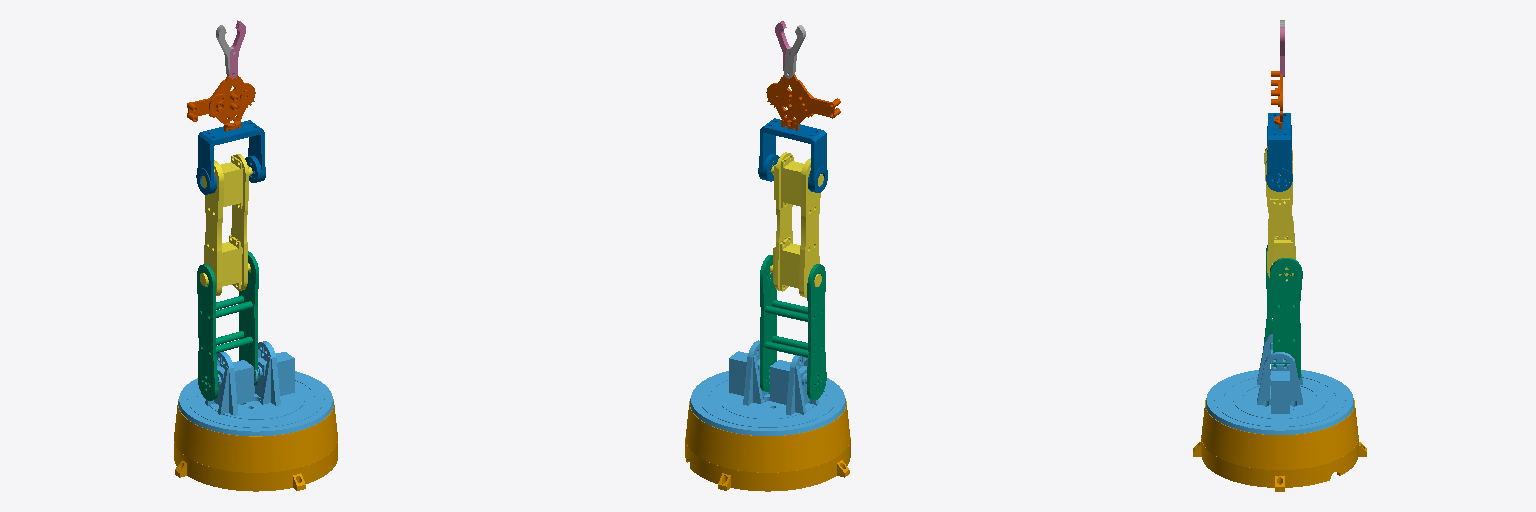
robot.urdf — test_robot:
<robot name="test_robot">
  <link name="base_cylinder">
	<visual>
         <geometry>
          <mesh filename="package://my_arm_xacro/meshes/base_cylinder.stl" scale ="0.001 0.001 0.001"/>
         </geometry>
        </visual>
        <collision>
         <geometry>
          <mesh filename="package://my_arm_xacro/meshes/base_cylinder.stl" scale ="0.001 0.001 0.001"/>
         </geometry>
        </collision>
  </link>

  <link name="platform">
	<visual>
         <geometry>
          <mesh filename="package://my_arm_xacro/meshes/top_plate.stl"/>
         </geometry>
        </visual>
        <collision>
         <geometry>
          <mesh filename="package://my_arm_xacro/meshes/top_plate.stl"/>
         </geometry>
        </collision>
  </link>

  <link name="lower_arm">
	<visual>
         <geometry>
          <mesh filename="package://my_arm_xacro/meshes/lower_arm.stl"/>
         </geometry>
        </visual>
        <collision>
         <geometry>
          <mesh filename="package://my_arm_xacro/meshes/lower_arm.stl"/>
         </geometry>
        </collision>
  </link>

  <link name="upper_arm">
	<visual>
         <geometry>
          <mesh filename="package://my_arm_xacro/meshes/top_arm.stl"/>
         </geometry>
        </visual>
        <collision>
         <geometry>
          <mesh filename="package://my_arm_xacro/meshes/top_arm.stl"/>
         </geometry>
        </collision>
  </link>

  <link name="wrist">
	<visual>
         <geometry>
          <mesh filename="package://my_arm_xacro/meshes/wrist.stl"/>
         </geometry>
        </visual>
        <collision>
         <geometry>
          <mesh filename="package://my_arm_xacro/meshes/wrist.stl"/>
         </geometry>
        </collision>
  </link>

  <link name="claw_base">
	<visual>
         <geometry>
          <mesh filename="package://my_arm_xacro/meshes/clawbase.stl"/>
         </geometry>
        </visual>
        <collision>
         <geometry>
          <mesh filename="package://my_arm_xacro/meshes/clawbase.stl"/>
         </geometry>
        </collision>
  </link>

  <link name="claw_l">
	<visual>
         <geometry>
          <mesh filename="package://my_arm_xacro/meshes/clawl.stl"/>
         </geometry>
        </visual>
        <collision>
         <geometry>
          <mesh filename="package://my_arm_xacro/meshes/clawl.stl"/>
         </geometry>
        </collision>
  </link>

  <link name="claw_r">
	<visual>
         <geometry>
          <mesh filename="package://my_arm_xacro/meshes/clawr.stl"/>
         </geometry>
        </visual>
        <collision>
         <geometry>
          <mesh filename="package://my_arm_xacro/meshes/clawr.stl"/>
         </geometry>
        </collision>
  </link>

  <joint name="joint1" type="revolute">
    <axis xyz="0 0 1" />
    <limit effort="1000.0" lower="-1.708" upper="1.708" velocity="1.0" />
    <parent link="base_cylinder"/>
    <child link="platform"/>
  </joint>

  <joint name="joint2" type="revolute">
    <axis xyz="-1 0 0" />
    <limit effort="1000.0" lower="-1.708" upper="1.708" velocity="1.0" />
    <origin xyz="0 0 0.093" rpy="0 0 0" />
    <parent link="platform"/>
    <child link="lower_arm"/>
  </joint>

  <joint name="joint3" type="revolute">
    <axis xyz="1 0 0" />
    <limit effort="1000.0" lower="-1.708" upper="1.708" velocity="1.0" />
    <origin xyz="0 0 0.121" rpy="0 0 0" />
    <parent link="lower_arm"/>
    <child link="upper_arm"/>
  </joint>

  <joint name="joint4" type="revolute">
    <axis xyz="-1 0 0" />
    <limit effort="1000.0" lower="-1.708" upper="1.708" velocity="1.0" />
    <origin xyz="0 0 0.112" rpy="0 0 0" />
    <parent link="upper_arm"/>
    <child link="wrist"/>
  </joint>

  <joint name="joint5" type="fixed">
    <axis xyz="-1 0 0" />
    <origin xyz="0 0 0.112" rpy="0 0 0" />
    <parent link="wrist"/>
    <child link="claw_base"/>
  </joint>

  <joint name="joint6" type="revolute">
    <axis xyz="0 1 0" />
    <limit effort="1000.0" lower="-0.15" upper="0.30" velocity="1.0" />
    <origin xyz="-0.027 0 0" rpy="0 0 0" />
    <parent link="claw_base"/>
    <child link="claw_l"/>
  </joint>

  <joint name="joint7" type="revolute">
    <axis xyz="0 -1 0" />
    <limit effort="1000.0" lower="-0.15" upper="0.30" velocity="1.0" />
    <origin xyz="-0.027 0 0" rpy="0 0 0" />
    <parent link="claw_base"/>
    <child link="claw_r"/>
  </joint>

</robot>

--- What the picture shows (computed from the rendered views, not written in the file) ---
The picture shows the robot from 3 angles, left to right: view 1: azimuth 30°, elevation 25°; view 2: azimuth 150°, elevation 25°; view 3: azimuth 270°, elevation 25°; orthographic projection.
Model test_robot with 8 links and 7 joints (6 revolute, 1 fixed), rooted at base_cylinder, posed all joints at 0.
Links seen in each view (by area): view 1: base_cylinder, platform, upper_arm, lower_arm, wrist, claw_base; view 2: base_cylinder, platform, upper_arm, lower_arm, wrist, claw_base; view 3: base_cylinder, platform, lower_arm, upper_arm, wrist.
Boxes of the visible links, left/top/right/bottom form: base_cylinder: left=174, top=399, right=337, bottom=491; platform: left=178, top=341, right=333, bottom=435; upper_arm: left=200, top=154, right=254, bottom=295; lower_arm: left=197, top=251, right=258, bottom=400; wrist: left=196, top=120, right=265, bottom=194; claw_base: left=187, top=73, right=255, bottom=131; base_cylinder: left=685, top=398, right=850, bottom=491; platform: left=690, top=340, right=845, bottom=435; upper_arm: left=769, top=152, right=823, bottom=297; lower_arm: left=760, top=255, right=826, bottom=399; wrist: left=758, top=118, right=827, bottom=192; claw_base: left=766, top=73, right=840, bottom=130; base_cylinder: left=1193, top=400, right=1366, bottom=491; platform: left=1206, top=334, right=1353, bottom=434; lower_arm: left=1263, top=245, right=1302, bottom=379; upper_arm: left=1264, top=146, right=1296, bottom=280; wrist: left=1266, top=113, right=1292, bottom=191.
Size in the robot's own frame: 0.186 by 0.186 by 0.4939 metres.
Meshes: 8 distinct files referenced, 8 mesh visuals loaded (8 binary STL).